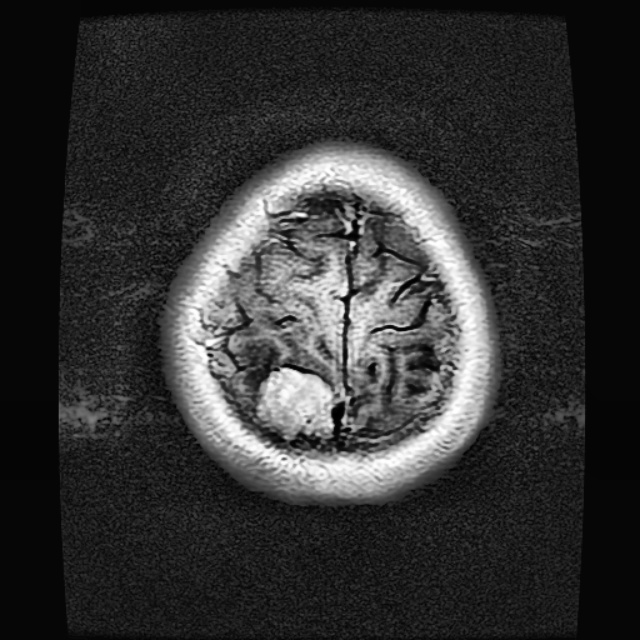Pituitary: (254, 367, 335, 439)
